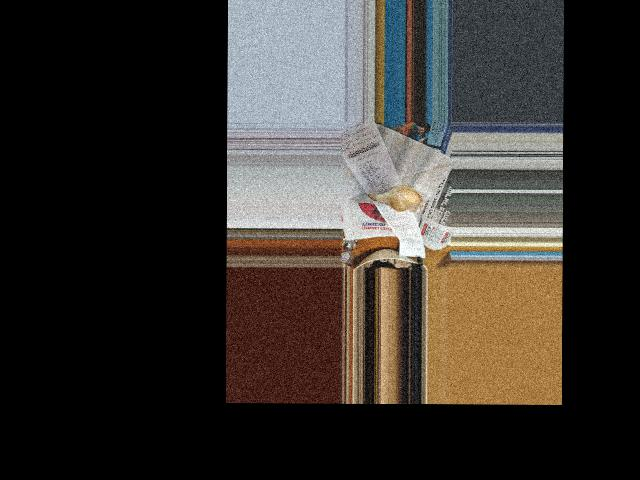onion: (375, 184, 421, 211)
